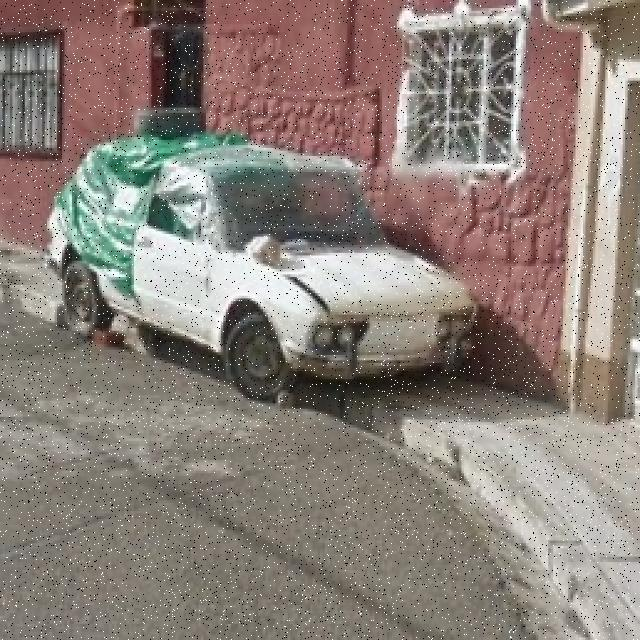cars: (63, 126, 476, 419)
